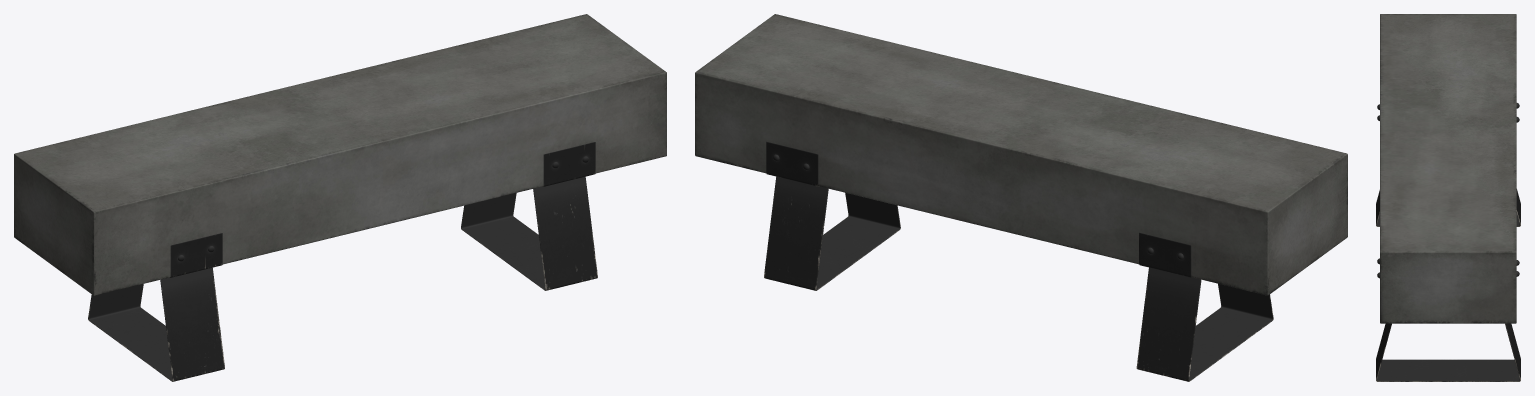
File: bench_4.fbx
The picture shows the model from 3 angles, left to right: view 1: azimuth 30°, elevation 25°; view 2: azimuth 150°, elevation 25°; view 3: azimuth 270°, elevation 25°; orthographic projection. The views are drawn at different scales.
Visible parts, largest first — view 1: bench_4; view 2: bench_4; view 3: bench_4.
Part boxes in pixels (x1,y1,x2,y2): bench_4: (14,14,666,381); bench_4: (695,14,1347,381); bench_4: (1376,14,1520,381).
Bounding box in the file's own units: 187 × 58.39 × 48.
Materials: 1 (1 with a texture image).
